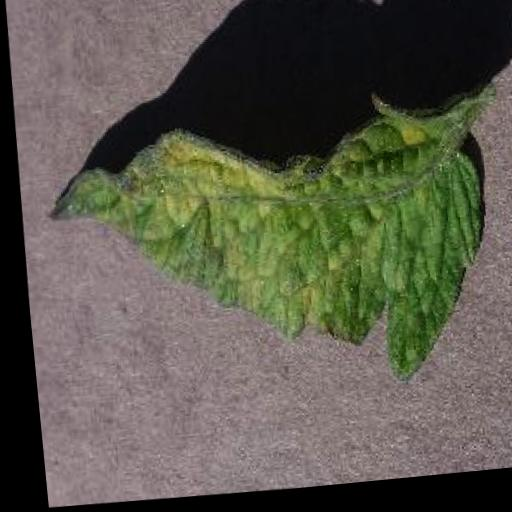Leaf Mold: (28, 88, 491, 417)
